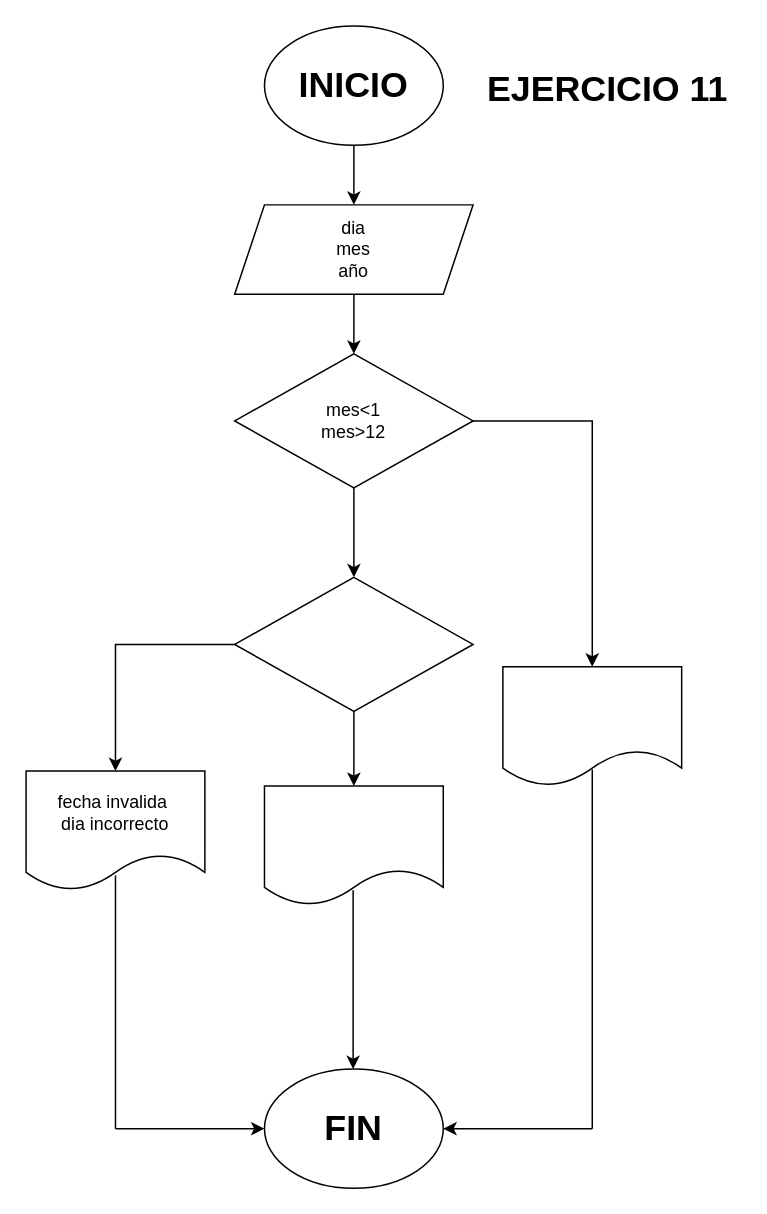
This 767x1214 diagram has some shape labels left out. Each missing label, with the centre of its shape:
"dia<1 dia>mas_dias" goes at (x=353, y=643).
"fecha invalida mes incorrecto" goes at (x=591, y=725).
"fecha valida" goes at (x=353, y=844).
